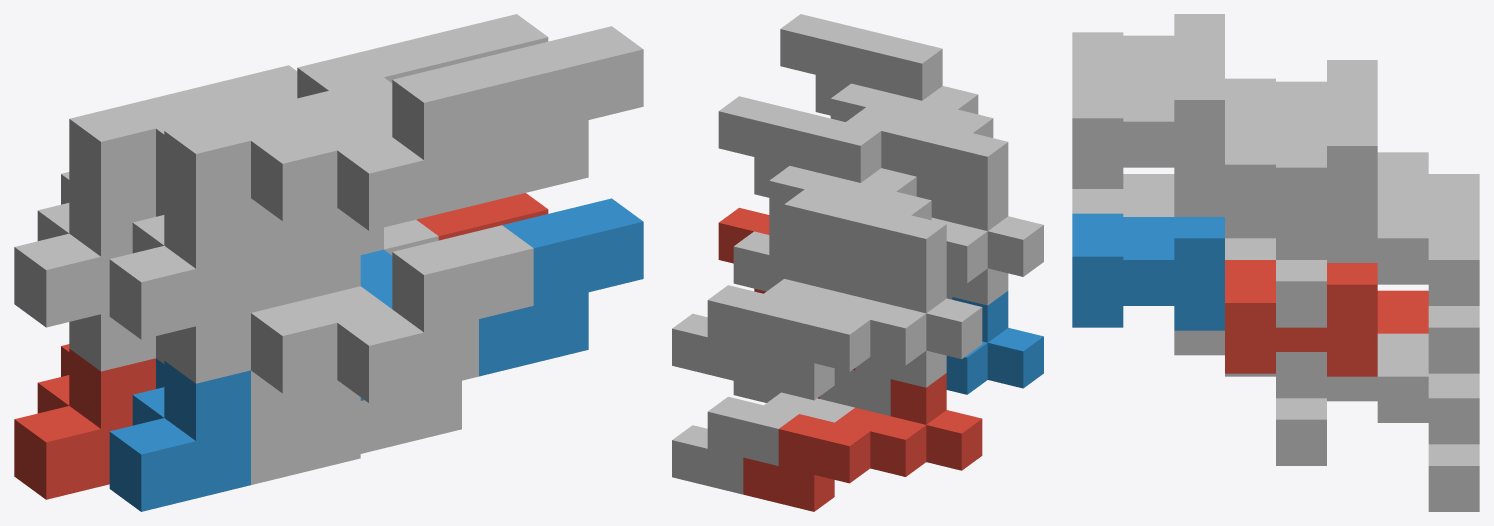
Rendered from tiling.obj.
The picture shows the model from 3 angles, left to right: view 1: azimuth 30°, elevation 25°; view 2: azimuth 150°, elevation 25°; view 3: azimuth 270°, elevation 25°; orthographic projection. The views are drawn at different scales.
Parts seen in each view (by area): view 1: copy_2_domain_4, copy_2_domain_2, copy_2_domain_8, copy_2_domain_6, copy_1_domain_4, copy_1_domain_2, copy_2_domain_3, copy_1_domain_1, copy_1_domain_3, copy_1_domain_6, copy_1_domain_8, copy_2_domain_7 (+2 smaller); view 2: copy_1_domain_3, copy_1_domain_1, copy_2_domain_3, copy_2_domain_4, copy_2_domain_7, copy_1_domain_7, copy_2_domain_8, copy_1_domain_5, copy_1_domain_4, copy_1_domain_2, copy_2_domain_1, copy_1_domain_8 (+3 smaller); view 3: copy_2_domain_7, copy_2_domain_8, copy_2_domain_6, copy_1_domain_7, copy_1_domain_5, copy_2_domain_5, copy_1_domain_6, copy_1_domain_8, copy_2_domain_4, copy_2_domain_3, copy_1_domain_3, copy_2_domain_2 (+2 smaller).
Boxes of the visible parts, x1,y1,x2,y2 form: copy_2_domain_4: (164, 53, 533, 255); copy_2_domain_2: (164, 225, 533, 427); copy_2_domain_8: (274, 26, 643, 228); copy_2_domain_6: (360, 198, 643, 400); copy_1_domain_4: (109, 186, 250, 339); copy_1_domain_2: (109, 358, 250, 511); copy_2_domain_3: (69, 41, 438, 199); copy_1_domain_1: (14, 344, 155, 499); copy_1_domain_3: (14, 172, 155, 327); copy_1_domain_6: (251, 380, 461, 484); copy_1_domain_8: (251, 208, 383, 312); copy_2_domain_7: (179, 14, 548, 114); copy_1_domain_3: (743, 261, 982, 400); copy_1_domain_1: (743, 373, 982, 511); copy_2_domain_3: (789, 113, 946, 304); copy_2_domain_4: (851, 31, 1008, 222); copy_2_domain_7: (718, 96, 875, 287); copy_1_domain_7: (672, 250, 855, 382); copy_2_domain_8: (780, 14, 936, 176); copy_1_domain_5: (672, 368, 855, 494); copy_1_domain_4: (931, 179, 1043, 283); copy_1_domain_2: (946, 291, 1043, 394); copy_2_domain_1: (855, 350, 946, 415); copy_1_domain_8: (733, 218, 784, 291); copy_2_domain_7: (1225, 103, 1377, 238); copy_2_domain_8: (1072, 57, 1224, 192); copy_2_domain_6: (1072, 213, 1224, 330); copy_1_domain_7: (1327, 195, 1479, 373); copy_1_domain_5: (1327, 333, 1479, 511); copy_2_domain_5: (1225, 260, 1377, 376); copy_1_domain_6: (1174, 330, 1326, 465); copy_1_domain_8: (1174, 192, 1326, 327); copy_2_domain_4: (1072, 14, 1224, 78); copy_2_domain_3: (1225, 60, 1377, 124); copy_1_domain_3: (1377, 152, 1479, 216); copy_2_domain_2: (1072, 174, 1174, 216).
Size of the model in its own units: 8 by 9 by 8.
